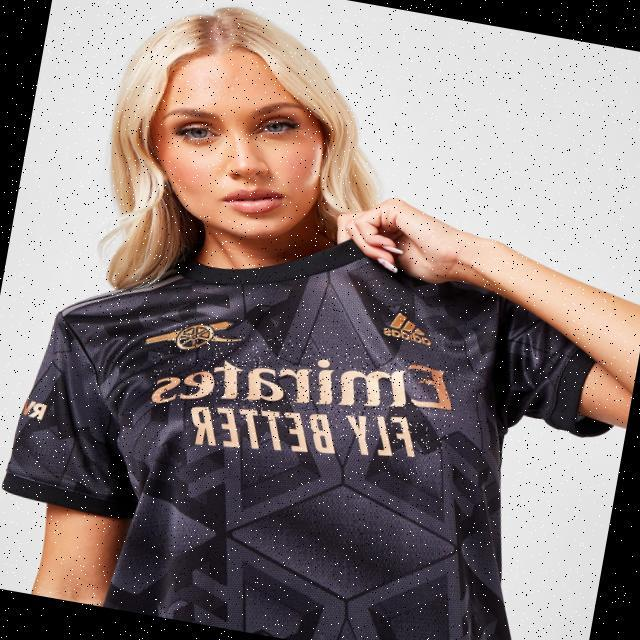Adidas: (380, 308, 439, 347)
Emirates: (147, 316, 461, 456)
